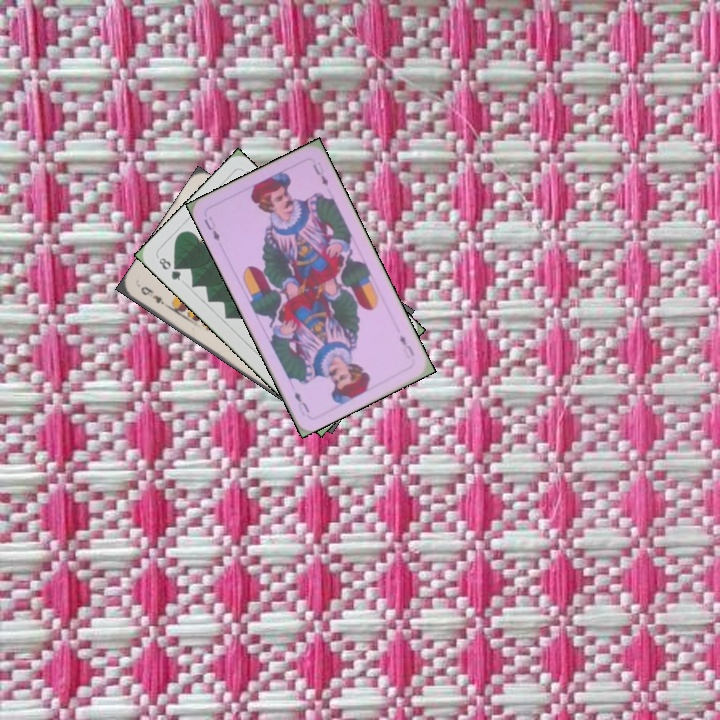E9: (136, 282, 170, 310)
EU: (200, 213, 222, 244), (395, 331, 417, 362)
G8: (155, 253, 184, 283)
